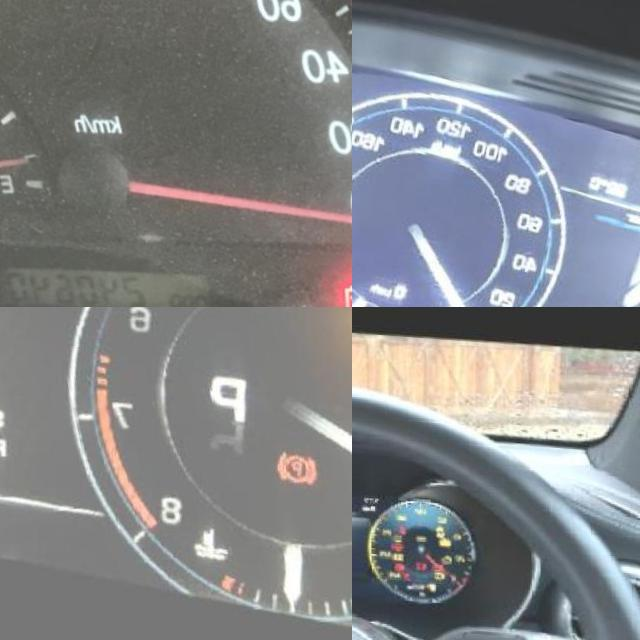Engine cooling system: (182, 511, 236, 571)
Low fuel level: (432, 576, 441, 586)
